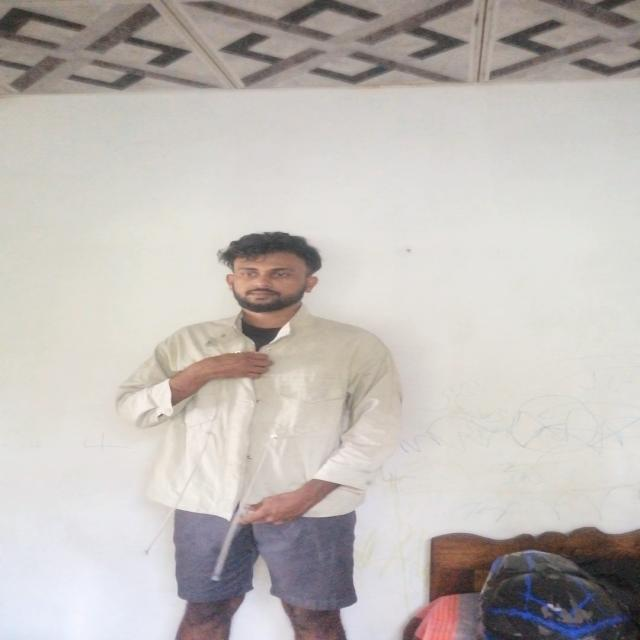Jacket_Wearer: (123, 307, 412, 553)
Person: (127, 221, 414, 640)
